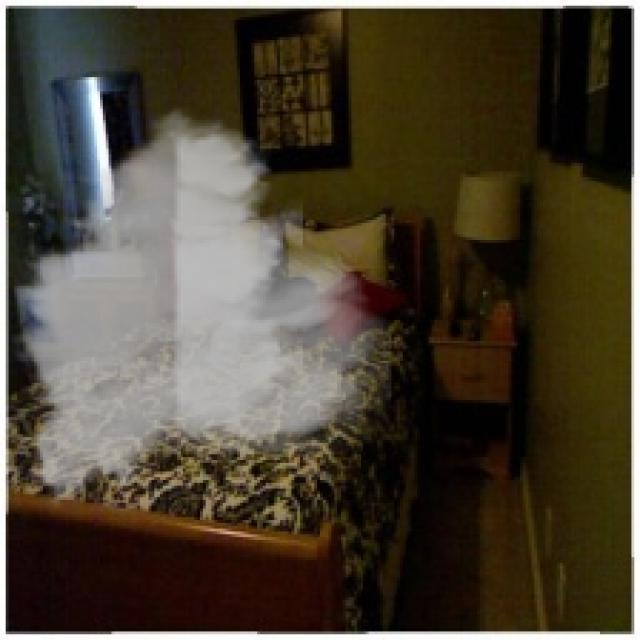Smoke: (9, 97, 392, 517)
